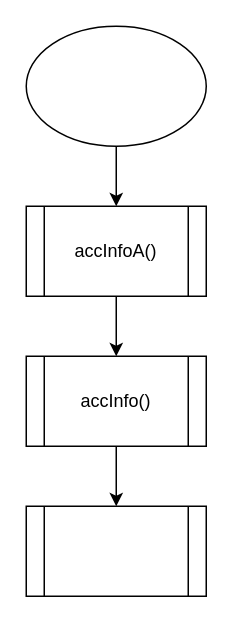
This 233x623 diagram has some shape labels left out. Here are the shapes that lost their labels. From the top down, the centre of each, then its label:
At pixel 115 85: "Begin".
At pixel 115 550: "returnToMenu(".
